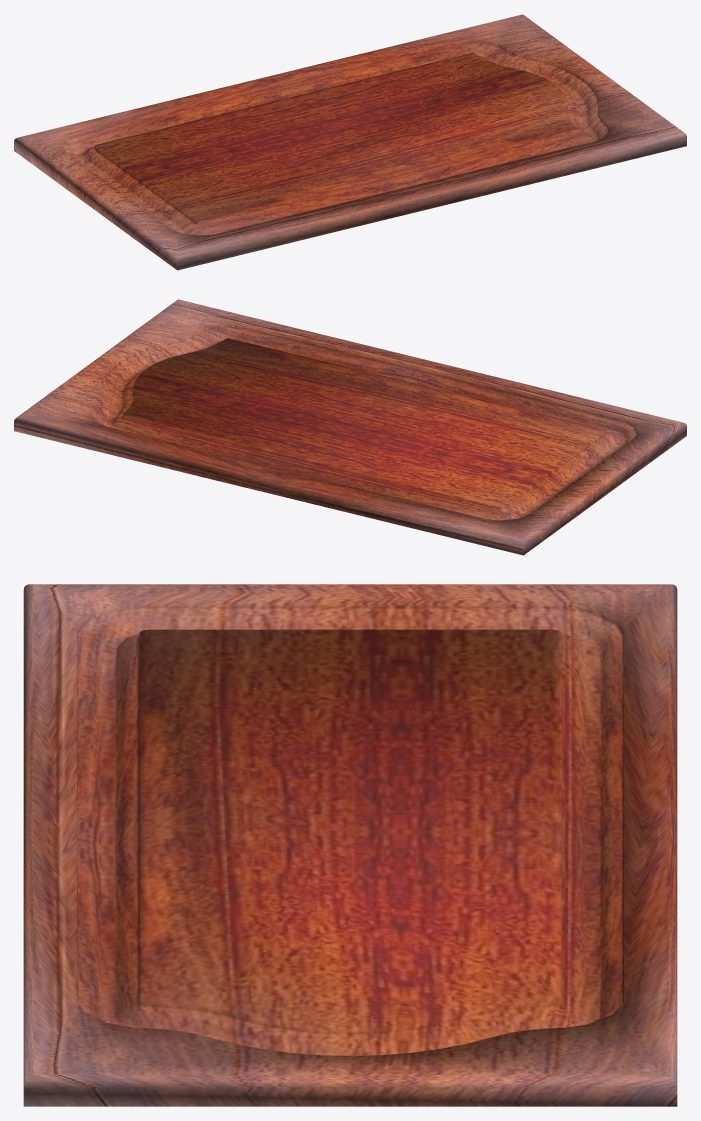
The picture shows the model from 3 angles, top to bottom: view 1: azimuth 30°, elevation 25°; view 2: azimuth 150°, elevation 25°; view 3: azimuth 270°, elevation 25°; orthographic projection. The views are drawn at different scales.
Visible parts, largest first — view 1: Cube.001; view 2: Cube.001; view 3: Cube.001.
Part boxes in pixels (x1=…): Cube.001: x1=14, y1=14, x2=686, y2=270; Cube.001: x1=14, y1=299, x2=686, y2=555; Cube.001: x1=23, y1=584, x2=677, y2=1106.
Bounding box in the file's own units: 7.13 × 0.19 × 3.96.
Materials: 1 (1 with a texture image).
